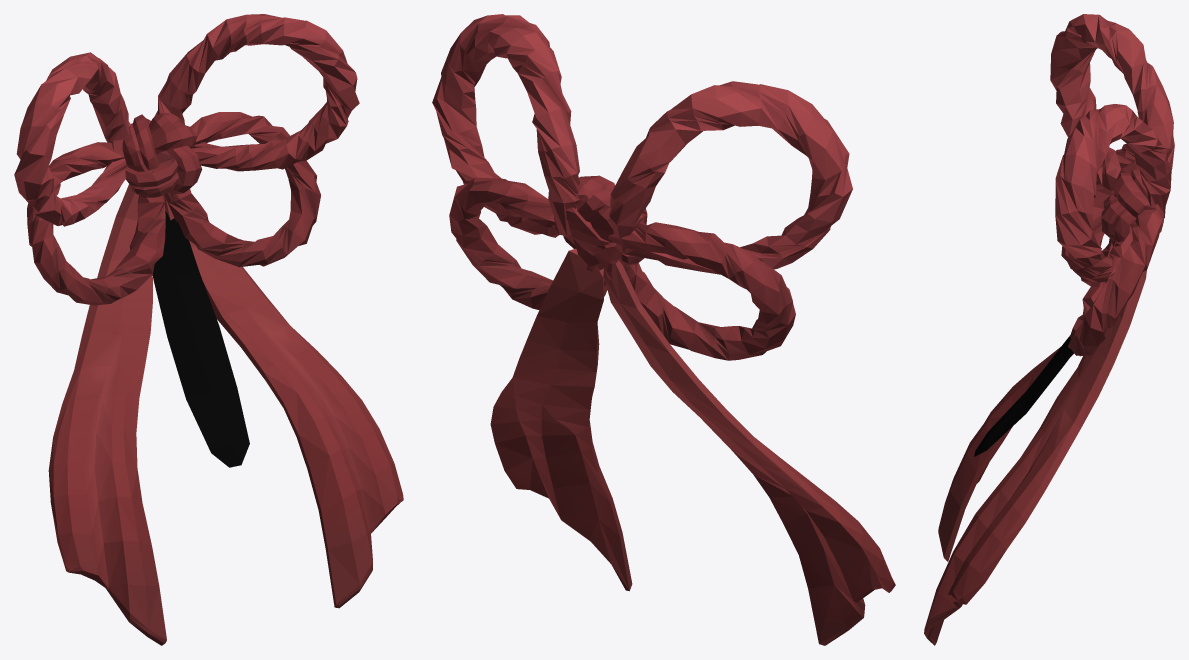
Rendered from CharSkyKid_Wing_RibbonBow.glb.
3 views of the same model, side by side, from view 1: azimuth 30°, elevation 25°; view 2: azimuth 150°, elevation 25°; view 3: azimuth 270°, elevation 25° (orthographic). The views are drawn at different scales.
Visible parts, largest first — view 1: CharSkyKid_Wing_RibbonBow; view 2: CharSkyKid_Wing_RibbonBow; view 3: CharSkyKid_Wing_RibbonBow.
Part boxes in pixels (box(x1,y1,x2,y2)): CharSkyKid_Wing_RibbonBow: box(14, 14, 403, 645); CharSkyKid_Wing_RibbonBow: box(432, 14, 895, 645); CharSkyKid_Wing_RibbonBow: box(924, 14, 1174, 645).
Size of the model in its own units: 7.15 by 10.61 by 4.5.
1 material, 1 textured.
